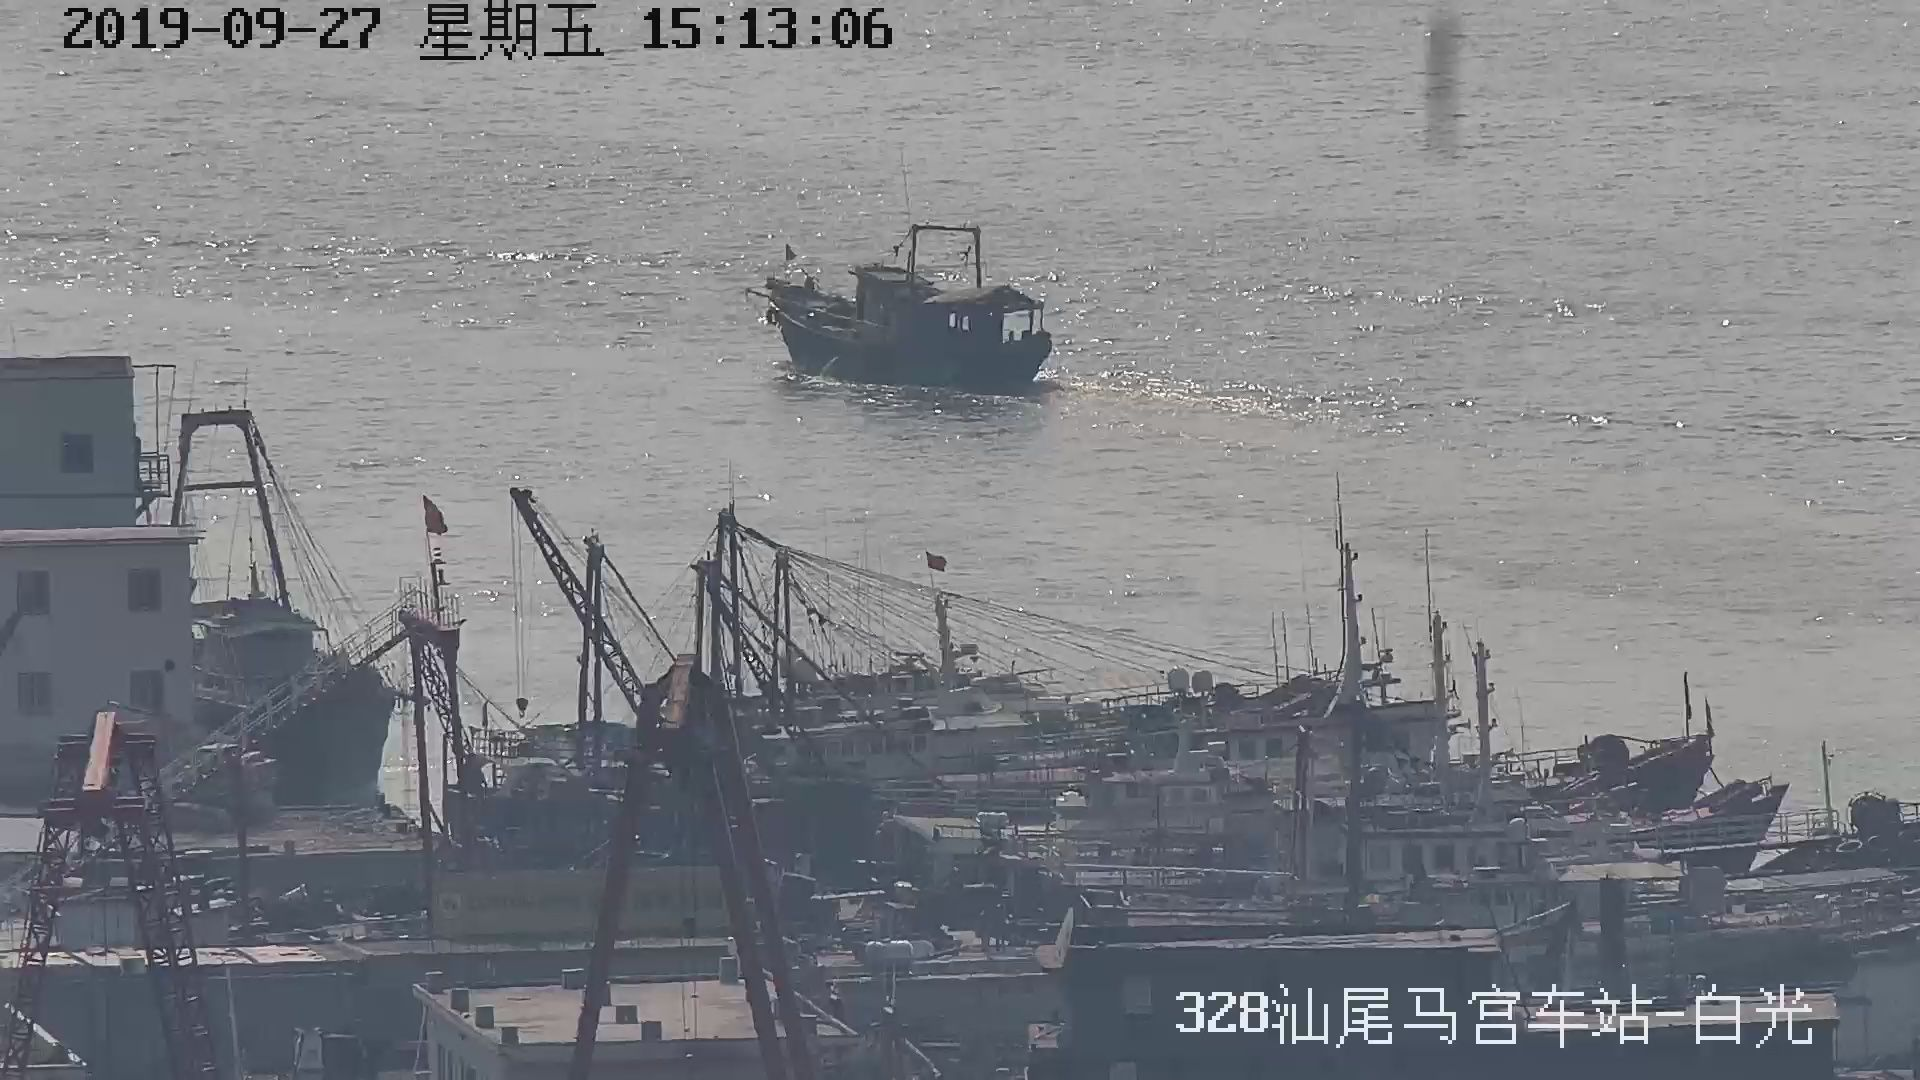ship: (760, 222, 1058, 394)
